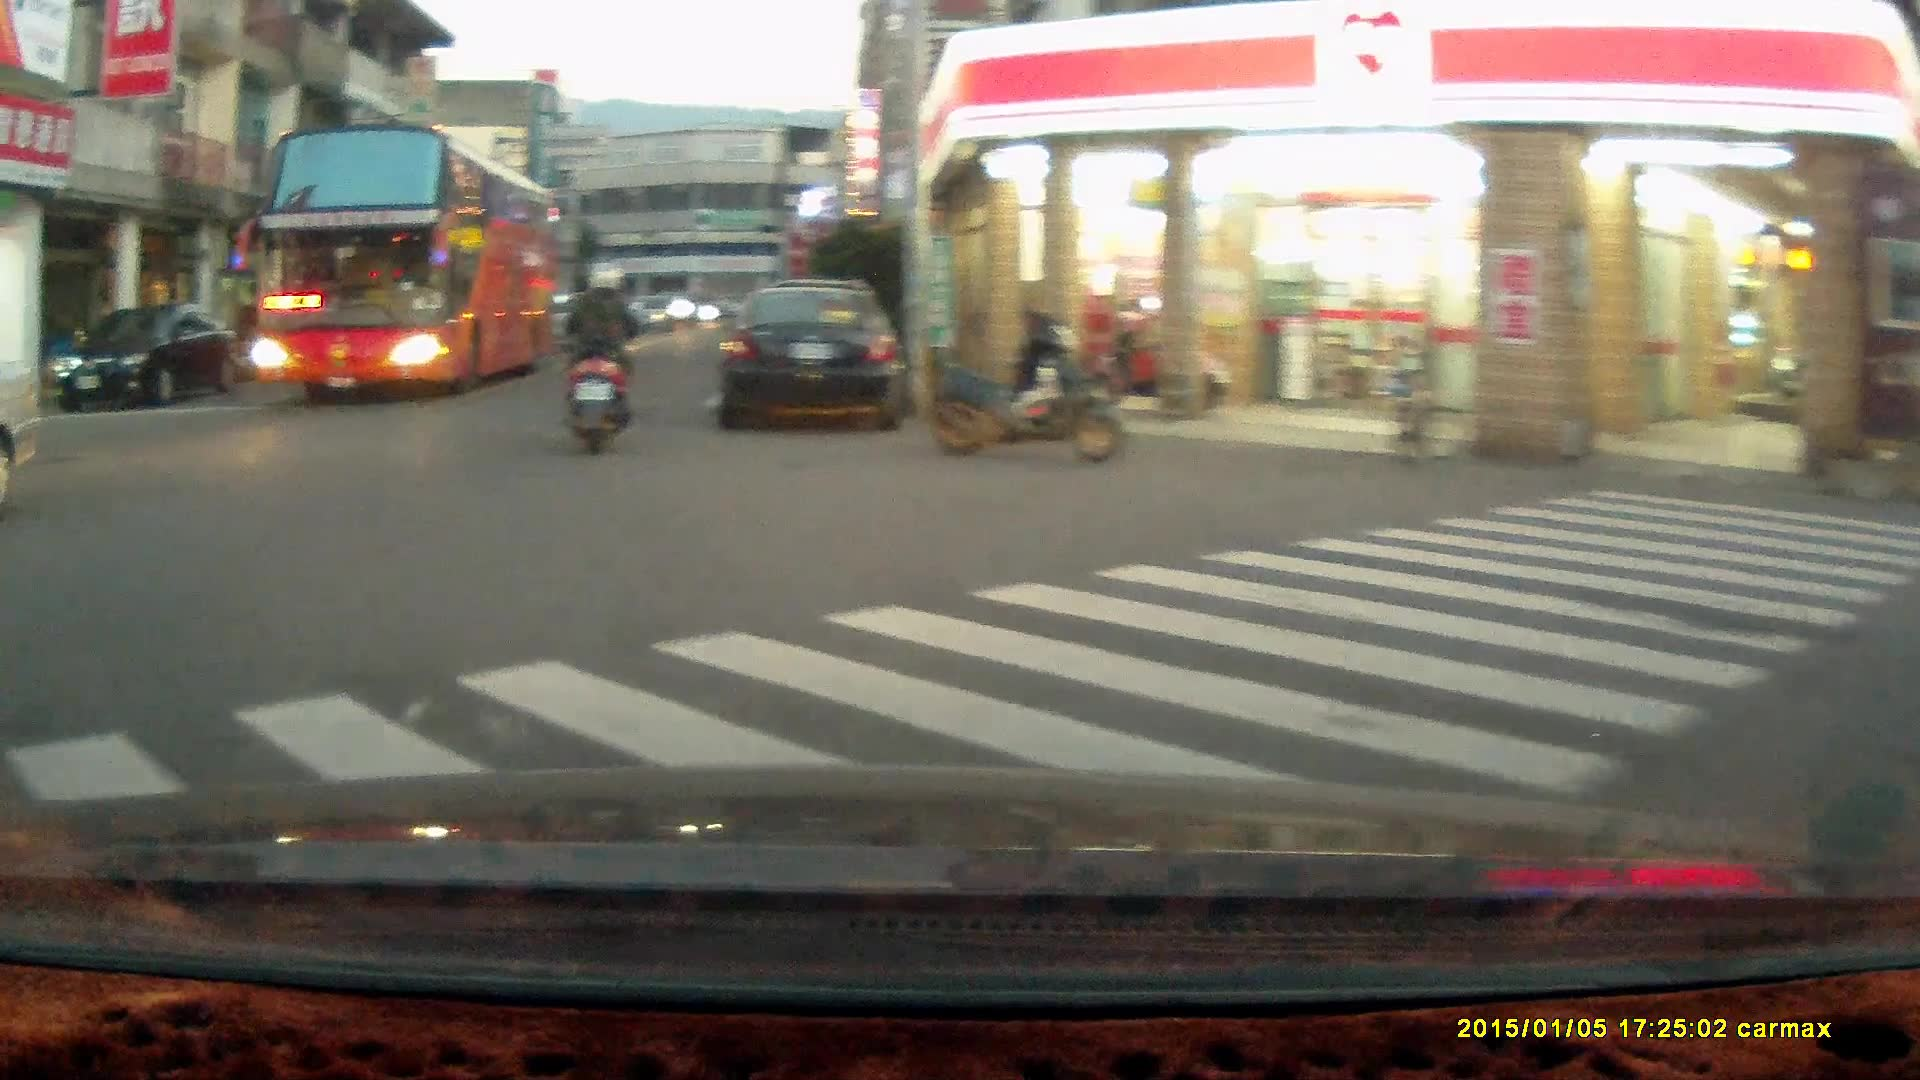rider: (550, 262, 639, 461)
vehicle: (250, 124, 566, 404), (714, 278, 910, 429), (52, 304, 247, 414)
